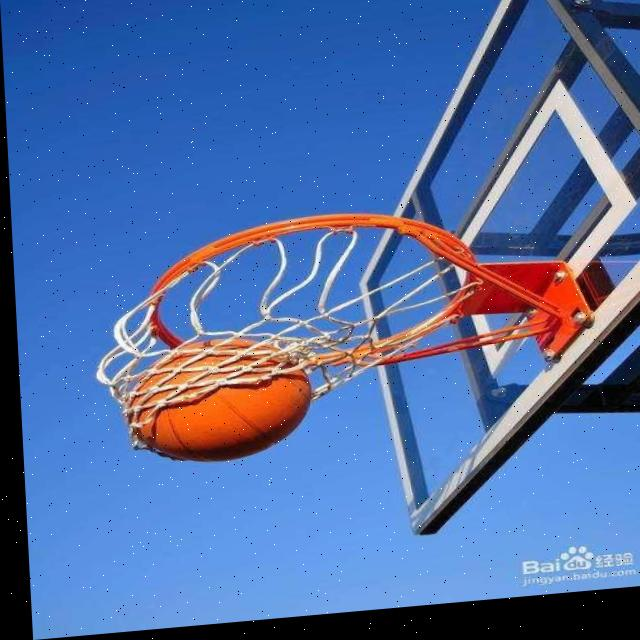basketball: (118, 330, 315, 472)
hoop: (85, 200, 483, 474), (88, 201, 479, 393)
